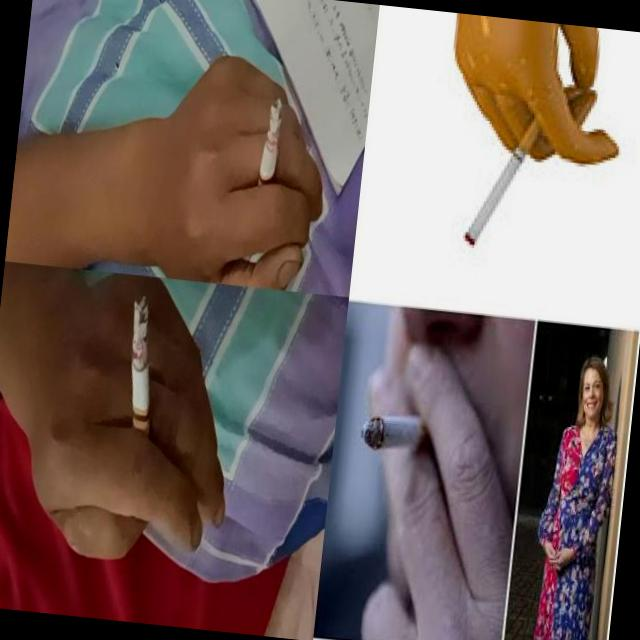cigarette: (462, 105, 546, 254), (115, 291, 166, 468), (358, 410, 442, 456), (254, 96, 283, 206)
